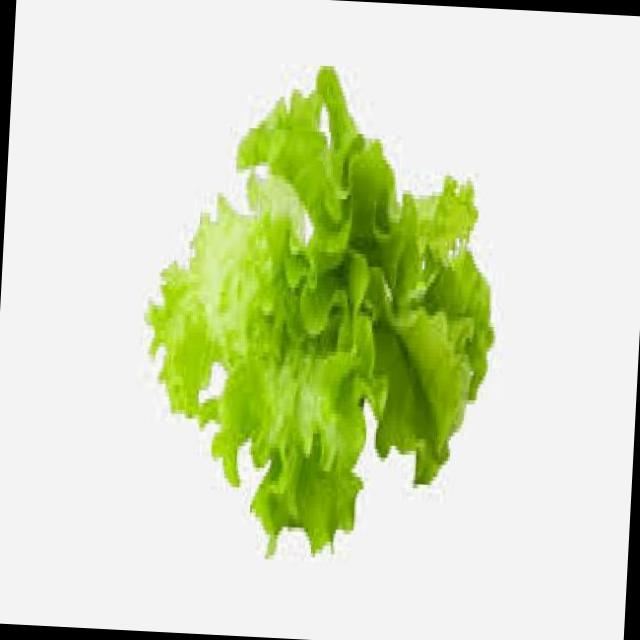Lettuce-Ready-to-Harvest: (148, 68, 493, 551)
